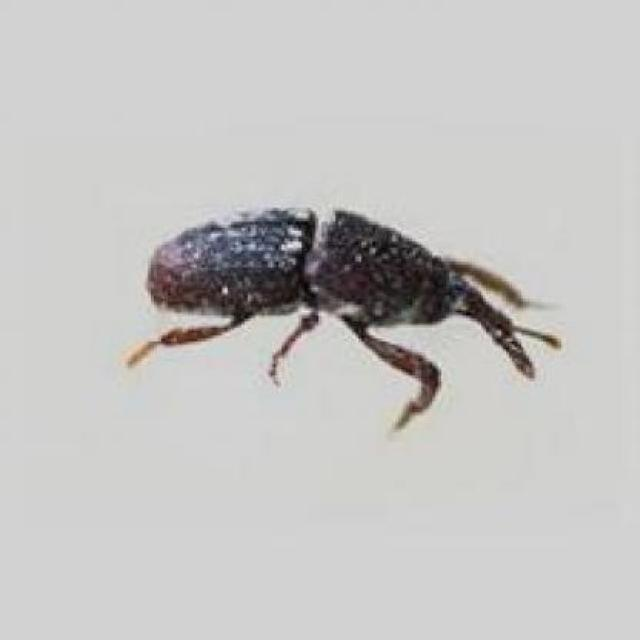rice-bug: (134, 200, 543, 398)
